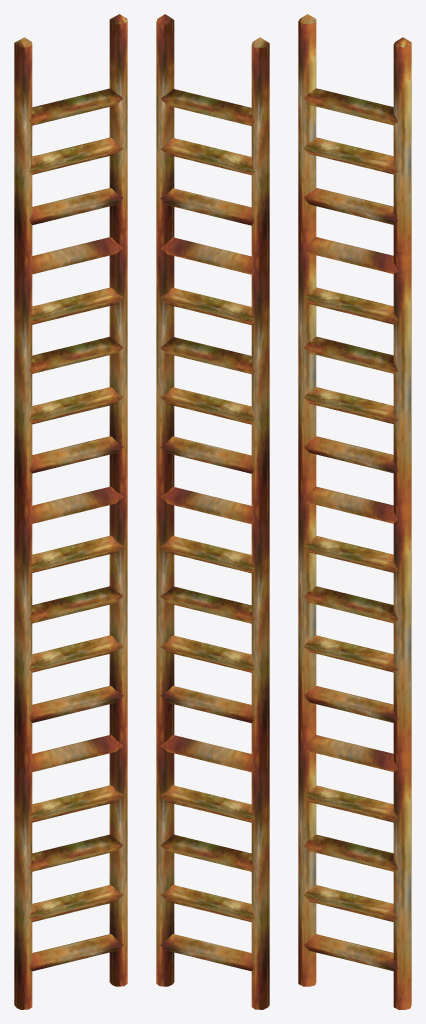
File: a-ladd-1.glb
The picture shows the model from 3 angles, left to right: view 1: azimuth 30°, elevation 25°; view 2: azimuth 150°, elevation 25°; view 3: azimuth 330°, elevation 25°; orthographic projection.
Parts seen in each view (by area): view 1: a_ladd_1; view 2: a_ladd_1; view 3: a_ladd_1.
Part boxes in pixels (x1=…): a_ladd_1: x1=14, y1=14, x2=127, y2=1009; a_ladd_1: x1=156, y1=14, x2=269, y2=1009; a_ladd_1: x1=298, y1=14, x2=411, y2=1009.
Size of the model in its own units: 87 by 730 by 13.
Materials: 1 (1 with a texture image).
